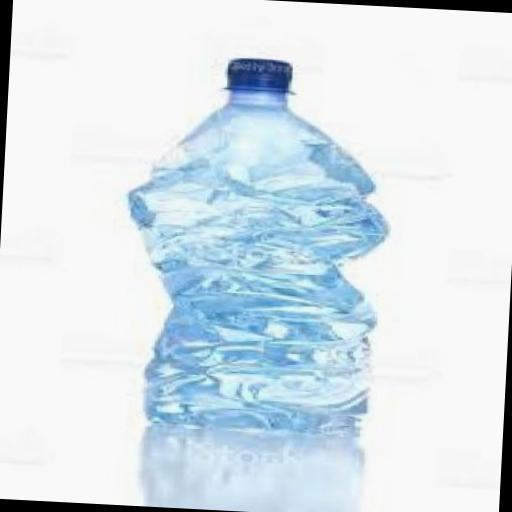plastic: (111, 50, 396, 440), (218, 56, 292, 92)
